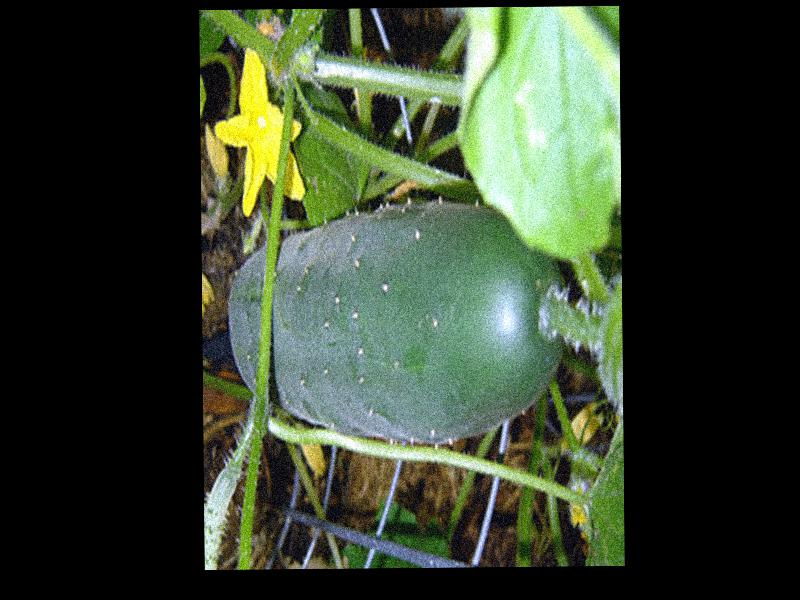Cucumber: (230, 200, 571, 443)
